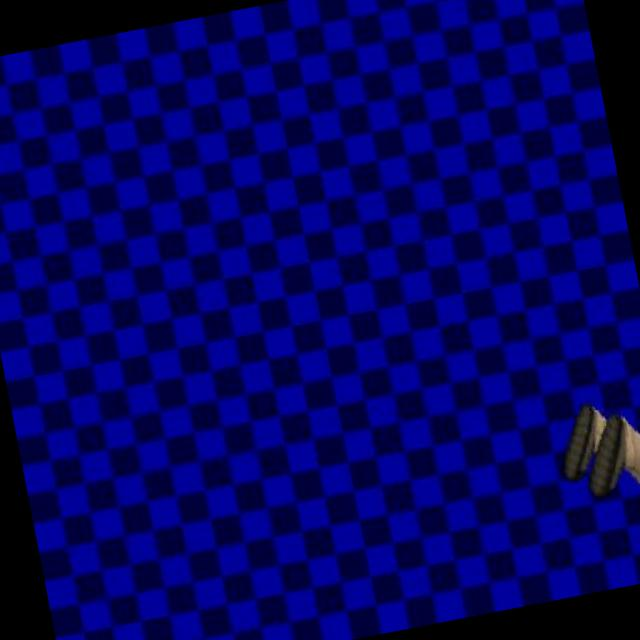Person: (549, 386, 640, 560)
